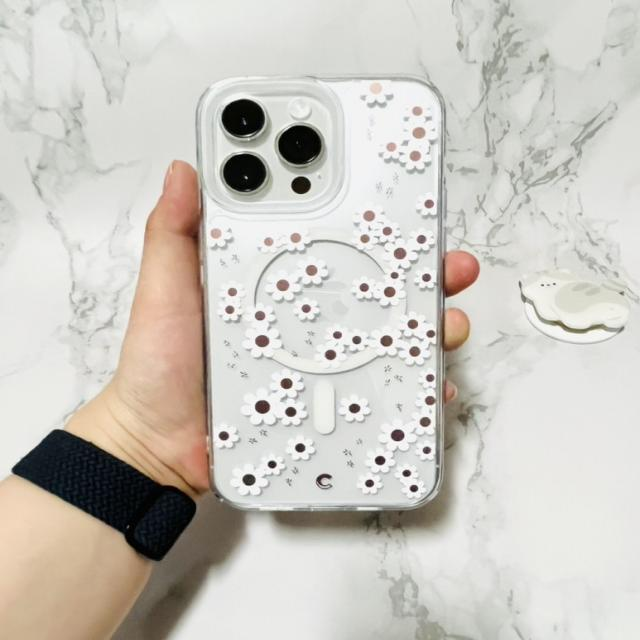phone: (196, 76, 446, 511)
